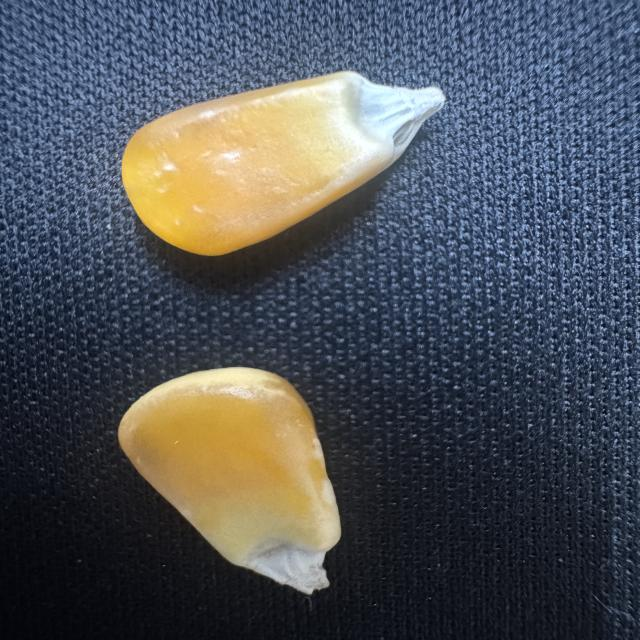Good-Seed: (113, 64, 448, 260), (110, 361, 357, 598)
